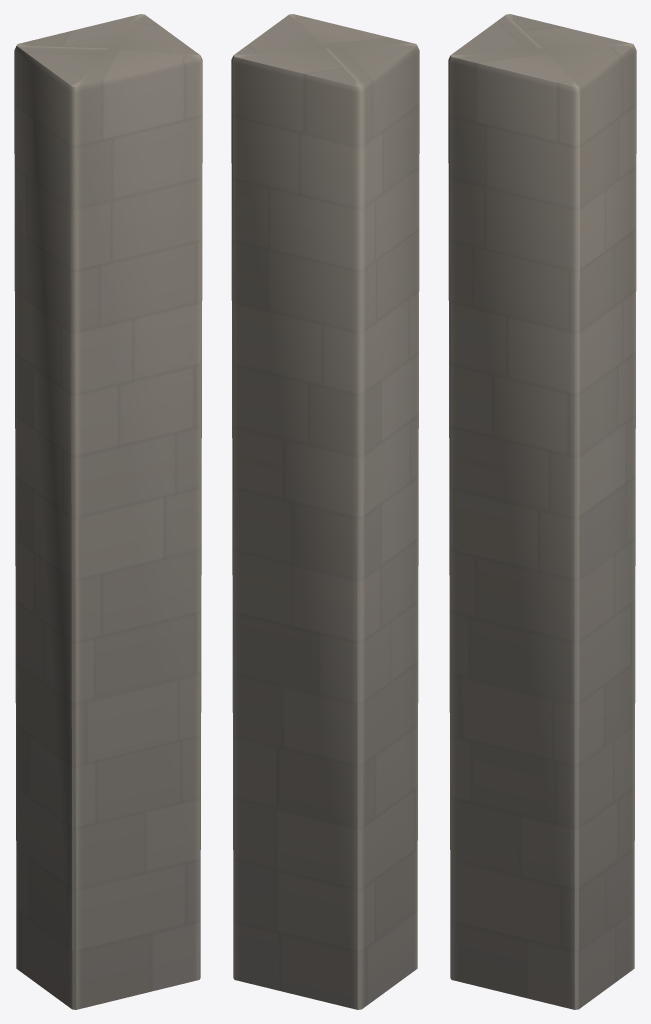
The model's file is ext_10x8.glb.
The picture shows the model from 3 angles, left to right: view 1: azimuth 30°, elevation 25°; view 2: azimuth 150°, elevation 25°; view 3: azimuth 330°, elevation 25°; orthographic projection.
Visible parts, largest first — view 1: ext_10x8.001; view 2: ext_10x8.001; view 3: ext_10x8.001.
Part boxes in pixels (left/top/right/bottom): ext_10x8.001: left=14, top=14, right=202, bottom=1009; ext_10x8.001: left=231, top=14, right=419, bottom=1009; ext_10x8.001: left=448, top=14, right=636, bottom=1009.
Bounding box in the file's own units: 5.95 × 40 × 4.75.
Materials: 1 (1 with a texture image).
